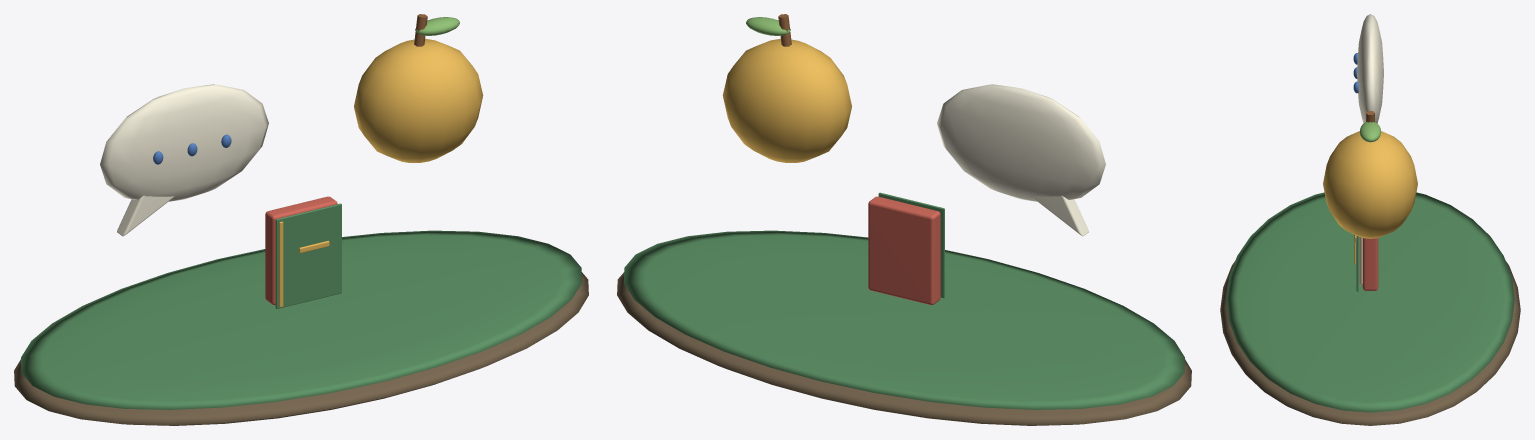
File: complete-first-fruit-speech-lesson.glb
3 views of the same model, side by side, from view 1: azimuth 30°, elevation 25°; view 2: azimuth 150°, elevation 25°; view 3: azimuth 270°, elevation 25° (orthographic). The views are drawn at different scales.
Parts seen in each view (by area): view 1: complete-first-fruit-speech-lesson_surface_01, complete-first-fruit-speech-lesson_surface_02, complete-first-fruit-speech-lesson_surface_04, complete-first-fruit-speech-lesson_surface_00, complete-first-fruit-speech-lesson_surface_07, complete-first-fruit-speech-lesson_surface_06; view 2: complete-first-fruit-speech-lesson_surface_01, complete-first-fruit-speech-lesson_surface_02, complete-first-fruit-speech-lesson_surface_04, complete-first-fruit-speech-lesson_surface_00, complete-first-fruit-speech-lesson_surface_07, complete-first-fruit-speech-lesson_surface_06; view 3: complete-first-fruit-speech-lesson_surface_01, complete-first-fruit-speech-lesson_surface_04, complete-first-fruit-speech-lesson_surface_00, complete-first-fruit-speech-lesson_surface_02, complete-first-fruit-speech-lesson_surface_07, complete-first-fruit-speech-lesson_surface_06.
Part boxes in pixels (box(x1,y1,x2,y2)): complete-first-fruit-speech-lesson_surface_01: box(21, 203, 581, 409); complete-first-fruit-speech-lesson_surface_02: box(100, 84, 268, 236); complete-first-fruit-speech-lesson_surface_04: box(279, 39, 483, 307); complete-first-fruit-speech-lesson_surface_00: box(14, 272, 588, 425); complete-first-fruit-speech-lesson_surface_07: box(265, 196, 337, 304); complete-first-fruit-speech-lesson_surface_06: box(415, 17, 459, 35); complete-first-fruit-speech-lesson_surface_01: box(624, 192, 1184, 409); complete-first-fruit-speech-lesson_surface_02: box(937, 84, 1105, 236); complete-first-fruit-speech-lesson_surface_04: box(722, 39, 851, 162); complete-first-fruit-speech-lesson_surface_00: box(617, 272, 1191, 425); complete-first-fruit-speech-lesson_surface_07: box(868, 196, 940, 304); complete-first-fruit-speech-lesson_surface_06: box(746, 17, 790, 35); complete-first-fruit-speech-lesson_surface_01: box(1226, 192, 1514, 412); complete-first-fruit-speech-lesson_surface_04: box(1323, 131, 1417, 264); complete-first-fruit-speech-lesson_surface_00: box(1220, 261, 1520, 425); complete-first-fruit-speech-lesson_surface_02: box(1357, 14, 1383, 123); complete-first-fruit-speech-lesson_surface_07: box(1362, 238, 1378, 290); complete-first-fruit-speech-lesson_surface_06: box(1359, 122, 1381, 142).
Size of the model in its own units: 4.56 by 2.41 by 2.5.
